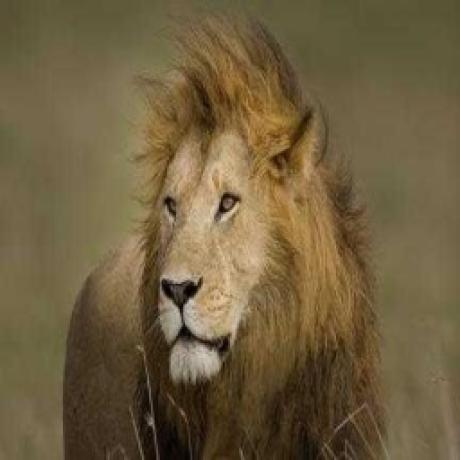Lion: (58, 20, 388, 460)
